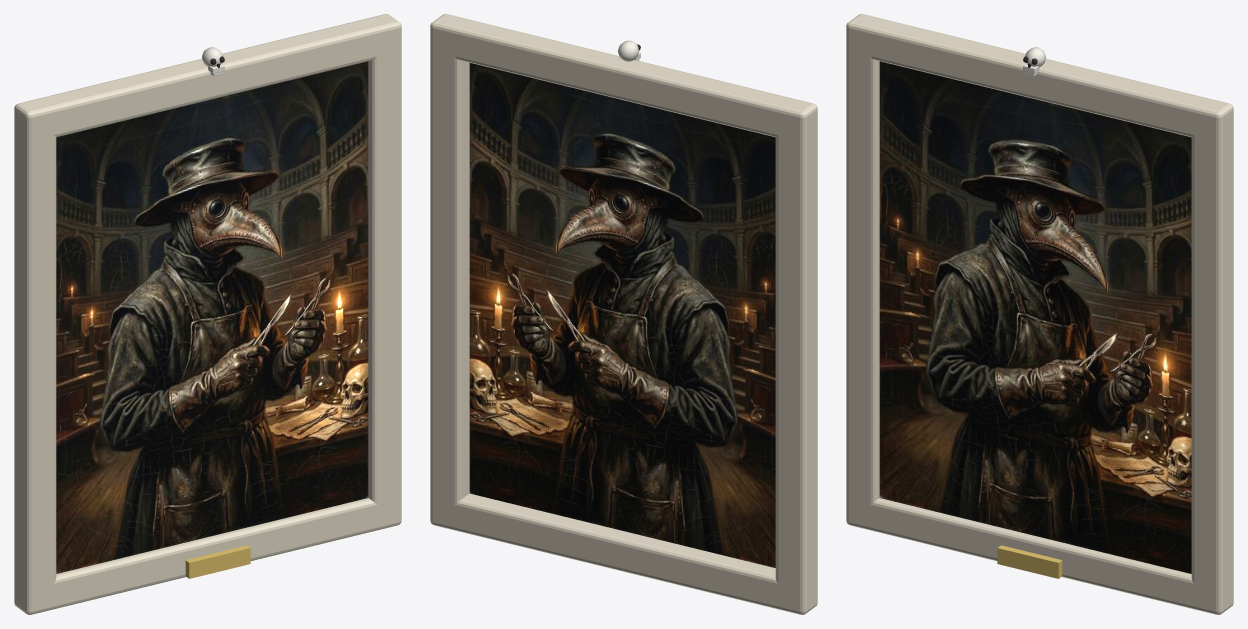
File: art_plague_surgeon.glb
3 renders of one model, left to right at view 1: azimuth 30°, elevation 25°; view 2: azimuth 150°, elevation 25°; view 3: azimuth 330°, elevation 25°, orthographic.
Visible parts, largest first — view 1: GD_art_plague_surgeon__m0, GD_art_plague_surgeon__m1, GD_art_plague_surgeon__m3; view 2: GD_art_plague_surgeon__m0, GD_art_plague_surgeon__m1; view 3: GD_art_plague_surgeon__m0, GD_art_plague_surgeon__m1, GD_art_plague_surgeon__m3.
Boxes of the visible parts, left/top/right/bottom form: GD_art_plague_surgeon__m0: left=56, top=61, right=368, bottom=573; GD_art_plague_surgeon__m1: left=14, top=14, right=401, bottom=614; GD_art_plague_surgeon__m3: left=185, top=545, right=250, bottom=578; GD_art_plague_surgeon__m0: left=469, top=63, right=775, bottom=567; GD_art_plague_surgeon__m1: left=430, top=14, right=817, bottom=614; GD_art_plague_surgeon__m0: left=879, top=61, right=1191, bottom=573; GD_art_plague_surgeon__m1: left=846, top=14, right=1233, bottom=614; GD_art_plague_surgeon__m3: left=997, top=545, right=1062, bottom=578.
Bounding box in the file's own units: 0.86 × 1.14 × 0.0775.
5 materials, 1 textured.
